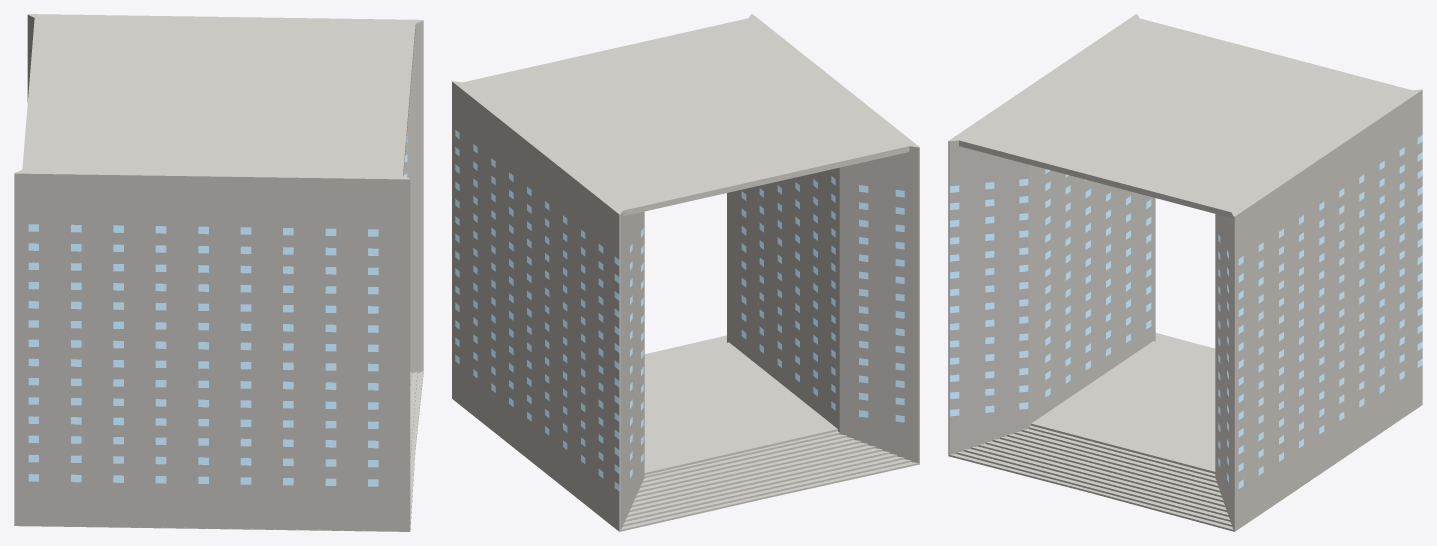
File: detail.glb
3 renders of one model, left to right at view 1: azimuth 30°, elevation 25°; view 2: azimuth 150°, elevation 25°; view 3: azimuth 270°, elevation 25°, orthographic. The views are drawn at different scales.
Parts seen in each view (by area): view 1: stone, window; view 2: stone, window; view 3: stone, window.
Part boxes in pixels (left/top/right/bottom): stone: left=14, top=14, right=423, bottom=531; window: left=28, top=135, right=407, bottom=486; stone: left=452, top=14, right=919, bottom=531; window: left=455, top=129, right=904, bottom=490; stone: left=948, top=14, right=1422, bottom=531; window: left=950, top=135, right=1422, bottom=488.
Bounding box in the file's own units: 152 × 110 × 150.
